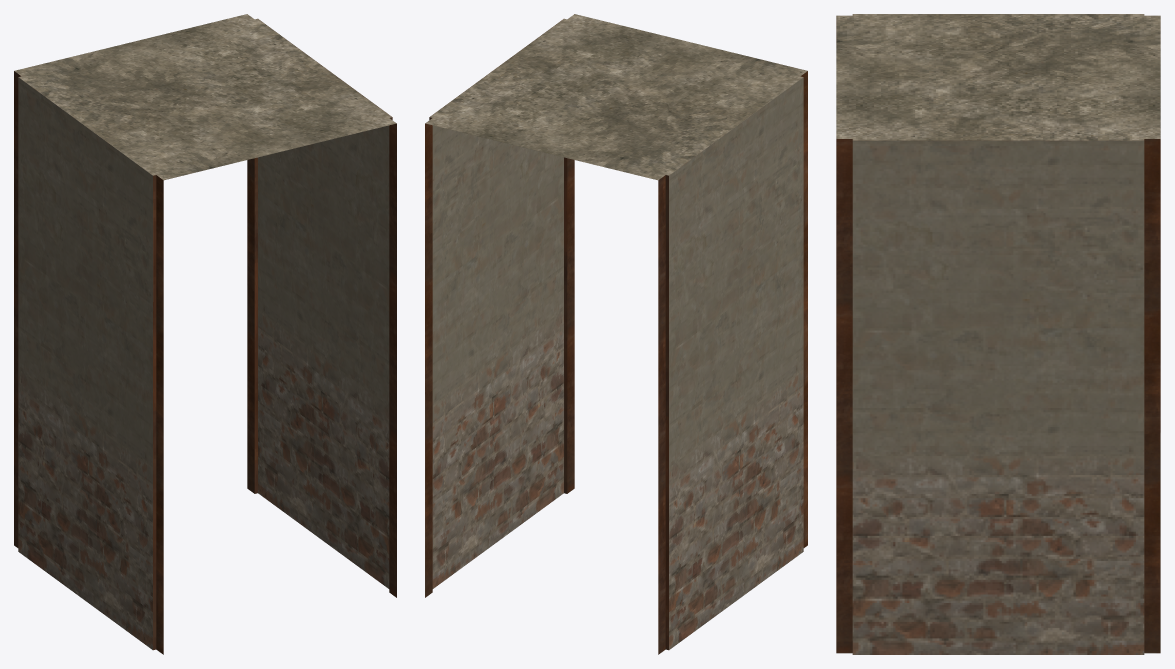
File: 2x2_Straight_Hallway.fbx
3 views of the same model, side by side, from view 1: azimuth 30°, elevation 25°; view 2: azimuth 150°, elevation 25°; view 3: azimuth 270°, elevation 25° (orthographic). The views are drawn at different scales.
Parts seen in each view (by area): view 1: 2x2StraightHallwayBaked; view 2: 2x2StraightHallwayBaked; view 3: 2x2StraightHallwayBaked.
Part boxes in pixels (x1=…): 2x2StraightHallwayBaked: x1=14, y1=14, x2=396, y2=654; 2x2StraightHallwayBaked: x1=425, y1=14, x2=807, y2=654; 2x2StraightHallwayBaked: x1=836, y1=14, x2=1160, y2=654.
Bounding box in the file's own units: 185 × 350 × 200.
